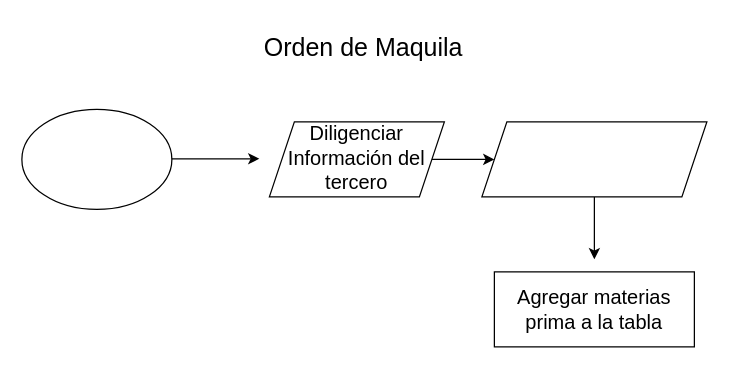
Some shapes in this 729 by 369 pixel diagram are drawn without their labels. The box of each missing label's shape, as (x1, y1, x2, y2) in pixels:
Inicio: (21, 108, 172, 209)
Seleccionar materias primas a vender: (481, 121, 707, 197)
